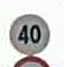limite 40: (9, 11, 50, 55)
